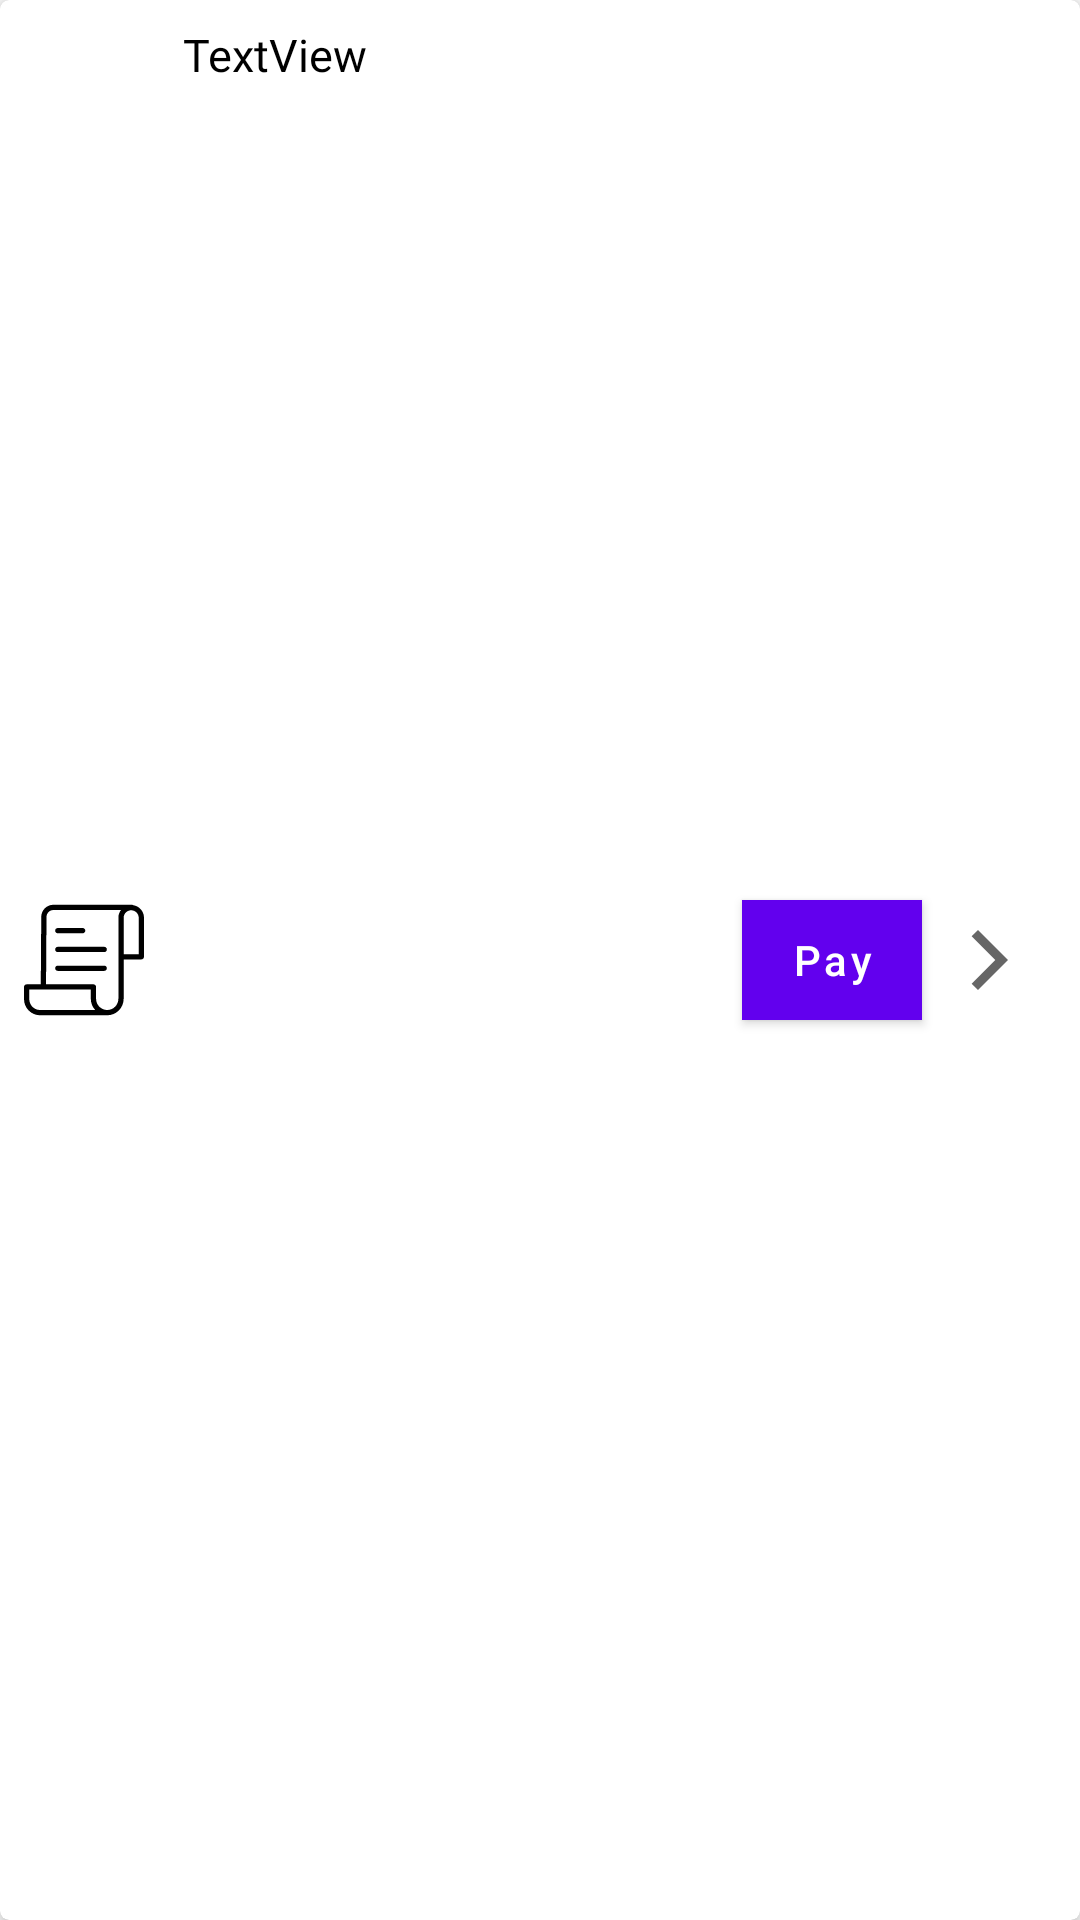

Locate icon controls on the screen. Image size 1080×1920, boxes as (x1, y1, x2, y2).
arrow: (972, 930, 1008, 990)
bill: (24, 904, 144, 1016)
